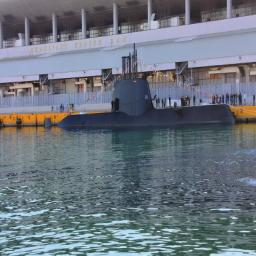submarine: (46, 77, 236, 129)
